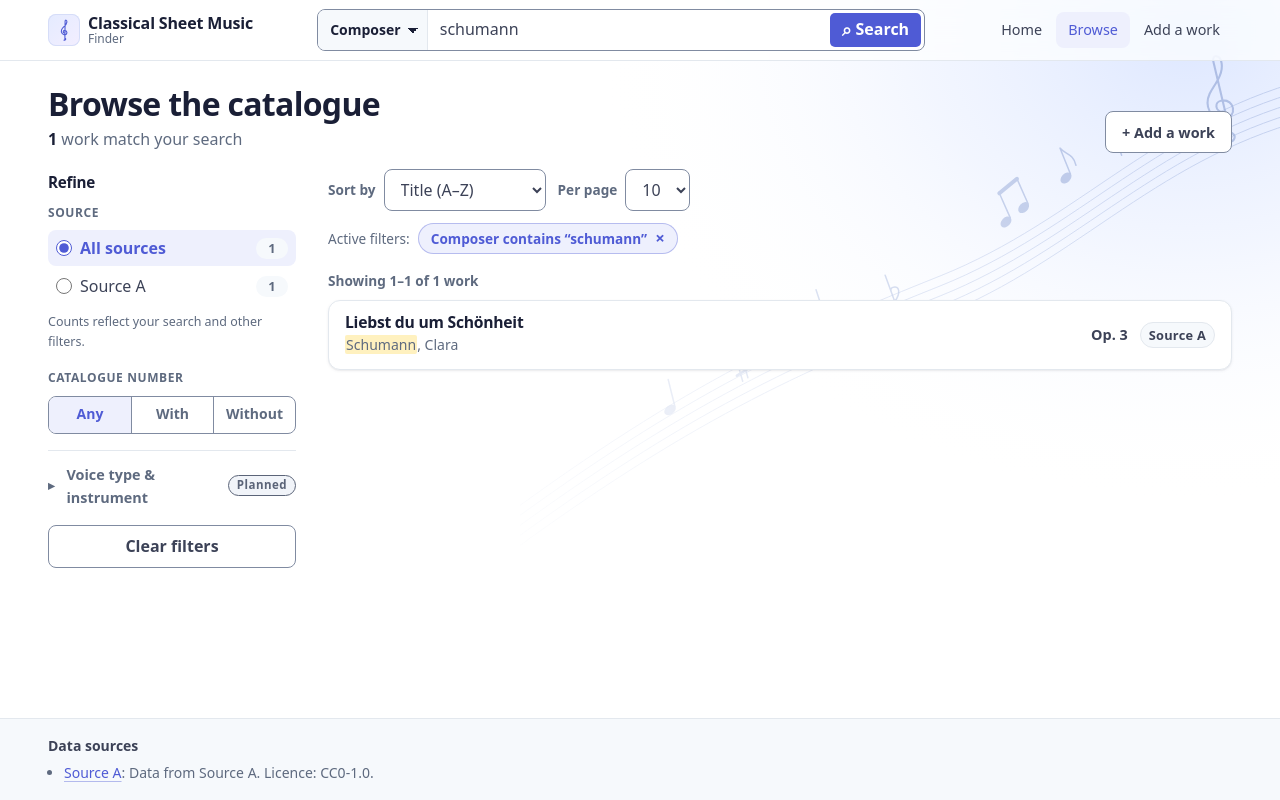
Test: GlobalSearch › follows the URL when a filter chip removes the search
The width and height of the screenshot is (1280, 800).
expect the text "Showing 1–1 of 1 work" is shown: met, box [328,270,478,292]
expect the search field named "Search by composer" holds "schumann": met, box [428,10,827,50]
Click the button "Composer contains “schumann” ×" at coordinates (548, 238), box [418,223,678,254]
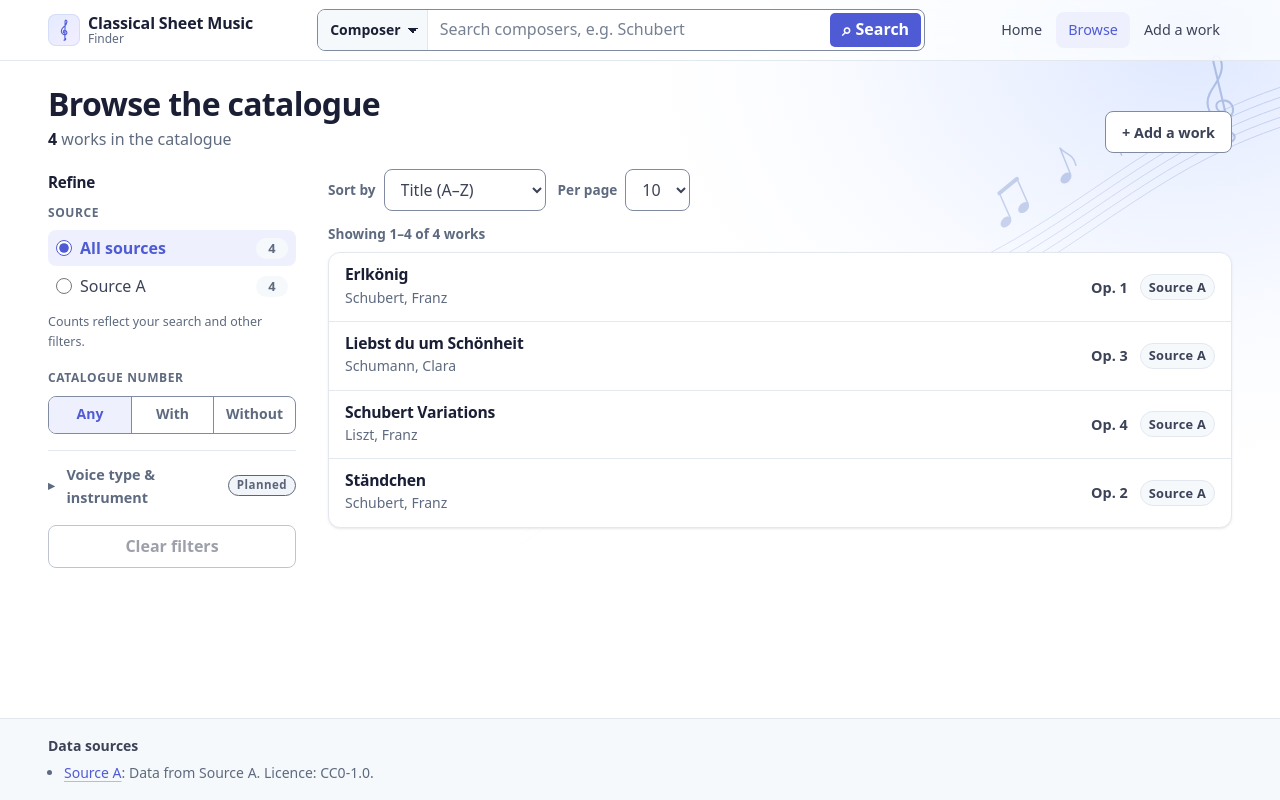
expect the text "Showing 1–4 of 4 works" is shown: met, box [328,223,485,244]
expect the search field named "Search by composer" is empty: met, box [428,10,827,50]
